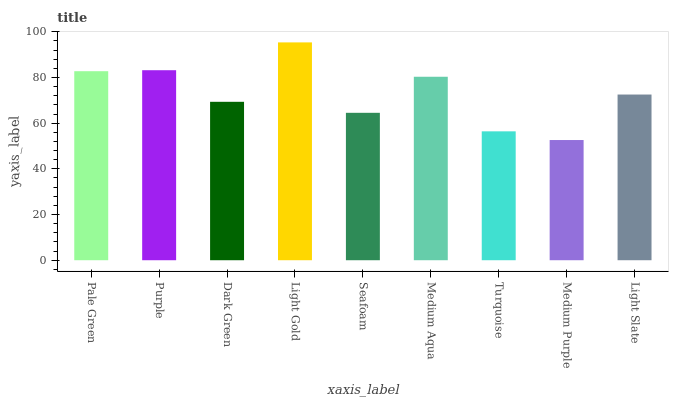canvas: (69, 38, 658, 264)
title: (53, 8, 90, 25)
x-axis: (40, 267, 673, 279)
x-labels: (79, 281, 657, 378)
x-title: (320, 381, 410, 400)
y-axis: (49, 27, 65, 277)
y-labels: (26, 24, 49, 267)
y-title: (3, 107, 25, 192)
